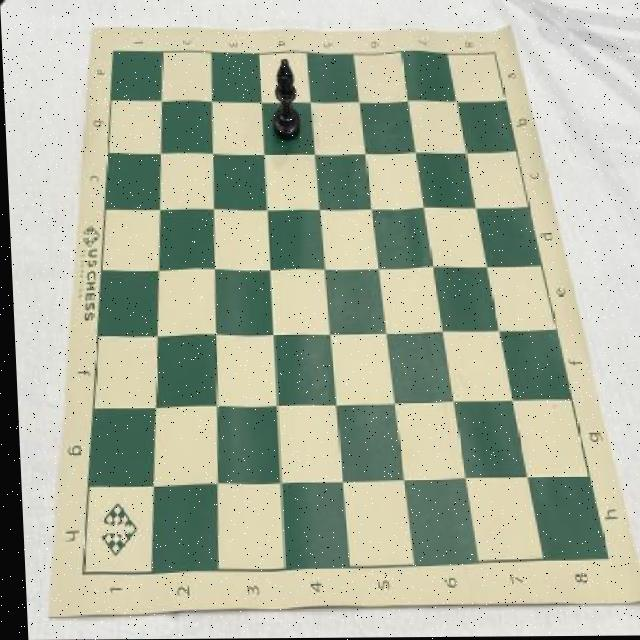bishop: (268, 58, 302, 144)
